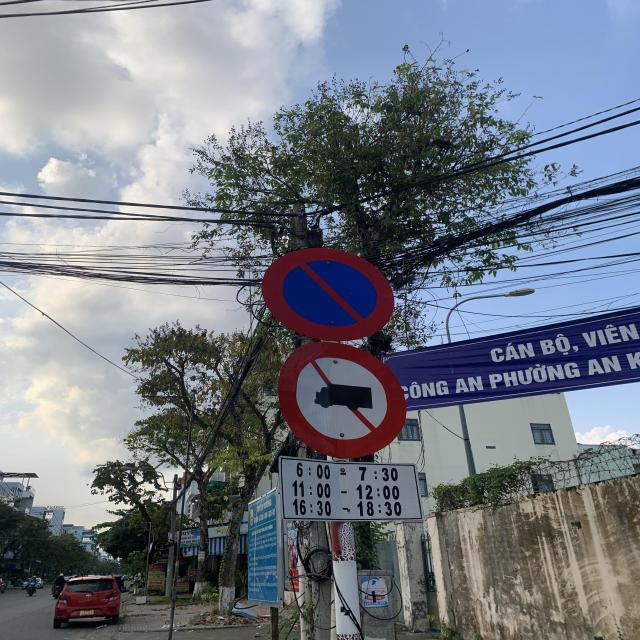Cam_Dau_Xe: (261, 248, 395, 341)
Cam_Xe_Tai: (277, 342, 409, 458)
